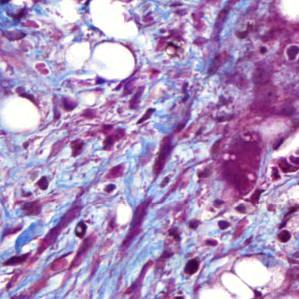steatosis: (91, 42, 137, 79)
